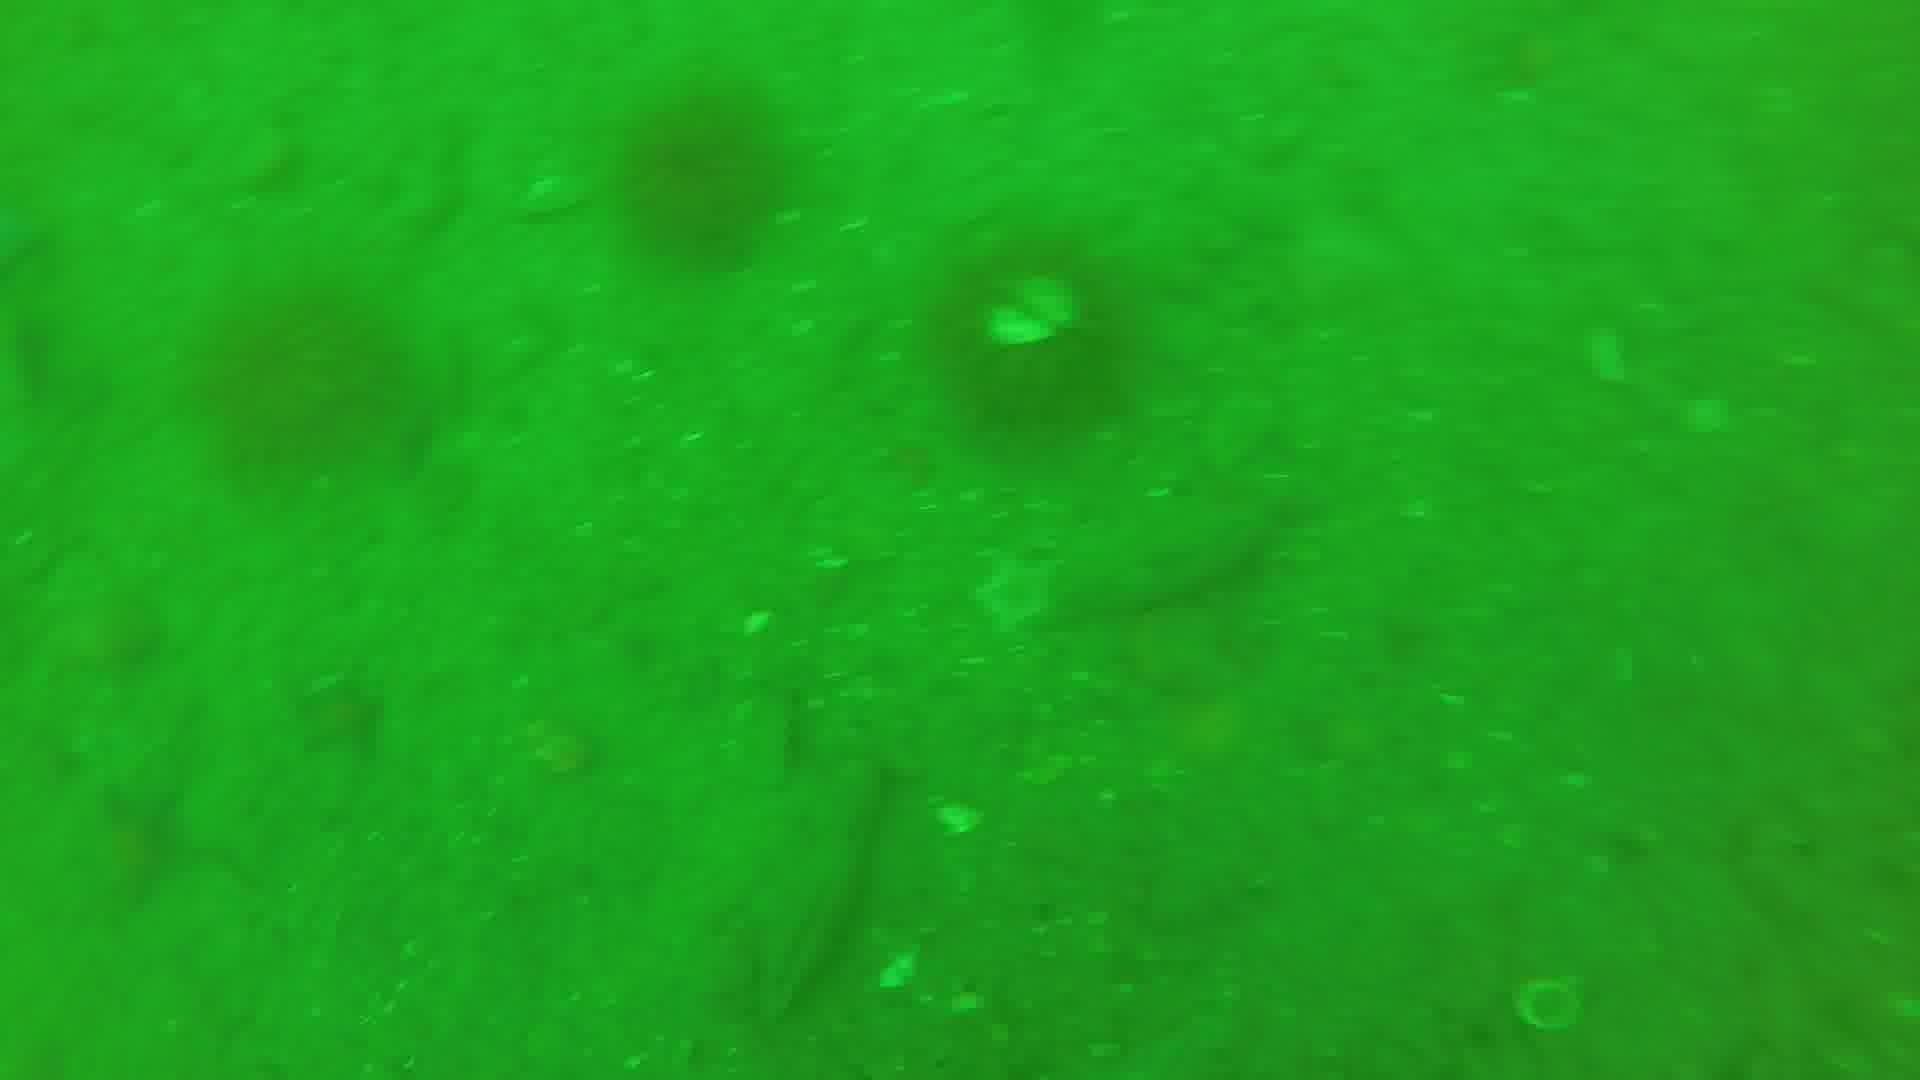echinus: (942, 240, 1133, 439), (185, 285, 397, 451), (624, 63, 783, 258)
scallop: (978, 272, 1085, 357), (1516, 978, 1569, 1026)
